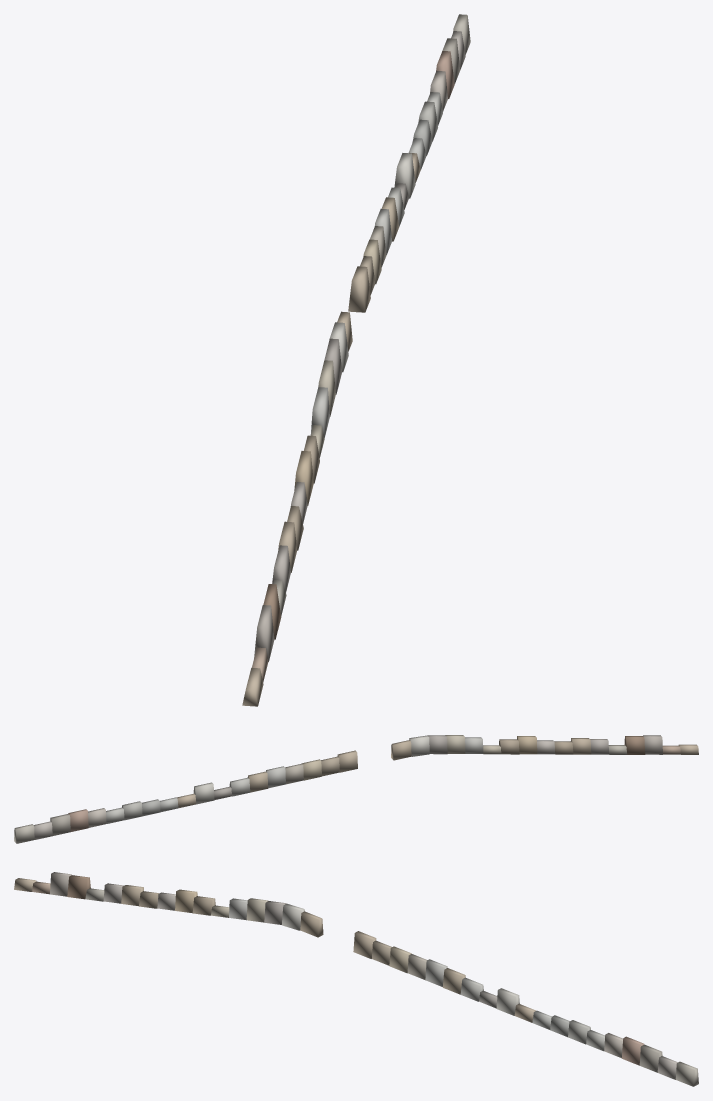
Rendered from farm_7_9_collision.glb.
The picture shows the model from 3 angles, top to bottom: view 1: azimuth 30°, elevation 25°; view 2: azimuth 150°, elevation 25°; view 3: azimuth 270°, elevation 25°; orthographic projection. The views are drawn at different scales.
Parts seen in each view (by area): view 1: geometry_0; view 2: geometry_0; view 3: geometry_0.
Boxes of the visible parts, x1,y1,x2,y2 form: geometry_0: (242,14,470,706); geometry_0: (14,735,698,843); geometry_0: (14,872,698,1086).
Size of the model in its own units: 38.06 by 5.69 by 47.87.
